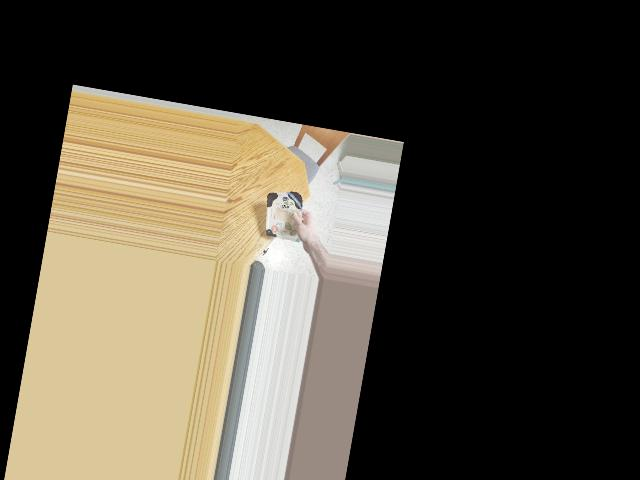cheese: (264, 186, 308, 248)
